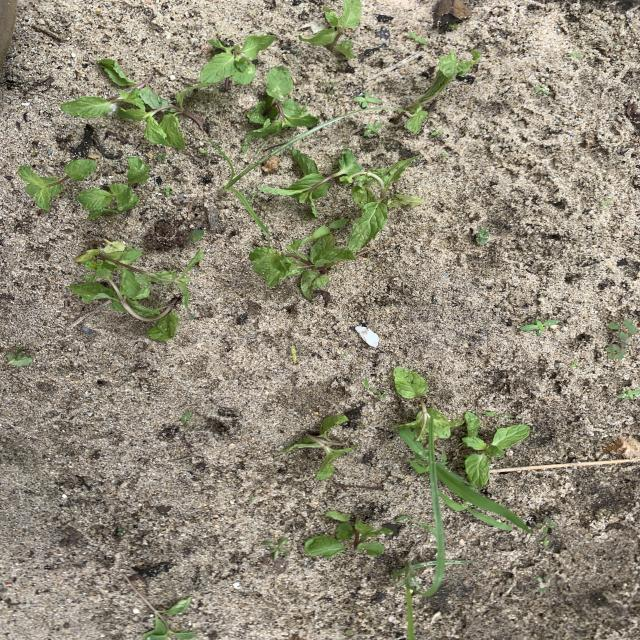crop: (250, 220, 369, 302), (75, 241, 204, 307), (339, 150, 421, 253), (68, 280, 188, 341), (403, 50, 481, 134), (264, 150, 345, 218), (61, 59, 148, 121), (462, 411, 530, 488), (253, 65, 320, 136), (124, 575, 197, 640), (140, 84, 209, 150), (286, 415, 356, 480), (76, 157, 149, 219), (193, 35, 276, 88), (304, 511, 396, 557), (17, 159, 98, 211), (300, 0, 361, 59), (395, 399, 463, 441), (393, 367, 428, 399)
weed: (422, 462, 505, 597), (210, 143, 269, 236), (605, 319, 637, 360), (404, 570, 419, 640), (528, 513, 557, 545), (468, 510, 511, 530), (520, 319, 550, 337), (354, 92, 381, 109), (361, 121, 386, 139), (408, 30, 428, 45), (286, 345, 301, 365)
